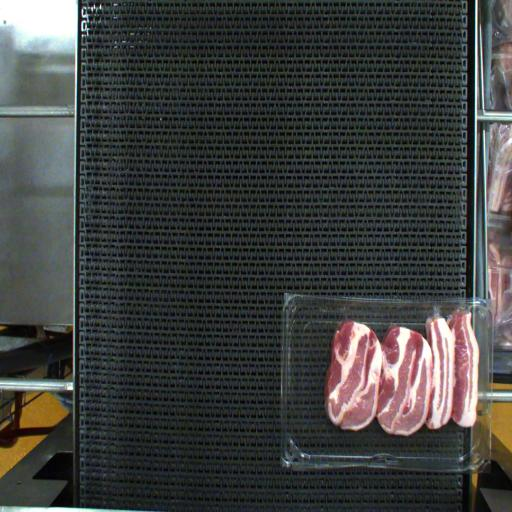packaging-error: (428, 294, 478, 337)
